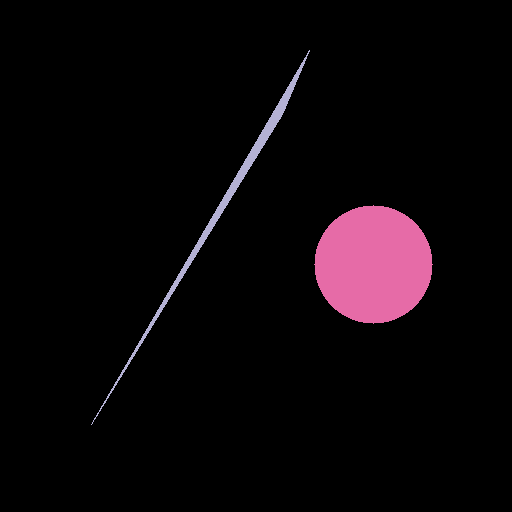circle: (314, 205, 432, 323)
